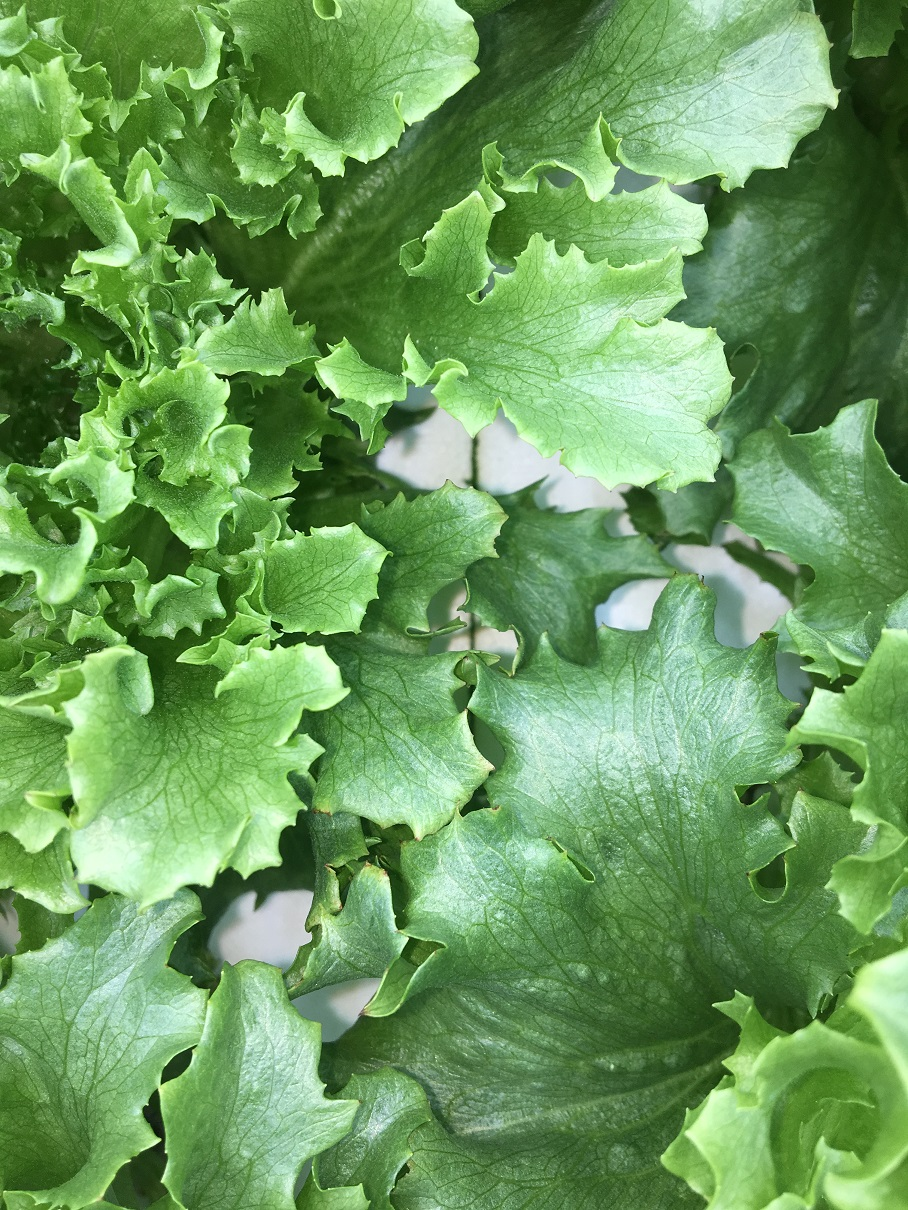tipburn: (670, 561, 718, 602), (475, 784, 516, 825), (282, 960, 322, 999), (299, 791, 336, 830), (344, 994, 381, 1032), (349, 845, 385, 884), (321, 893, 357, 930), (382, 914, 418, 949), (500, 658, 532, 695), (310, 849, 343, 883), (364, 862, 399, 893), (735, 857, 759, 884), (437, 463, 460, 486), (793, 778, 816, 800)
